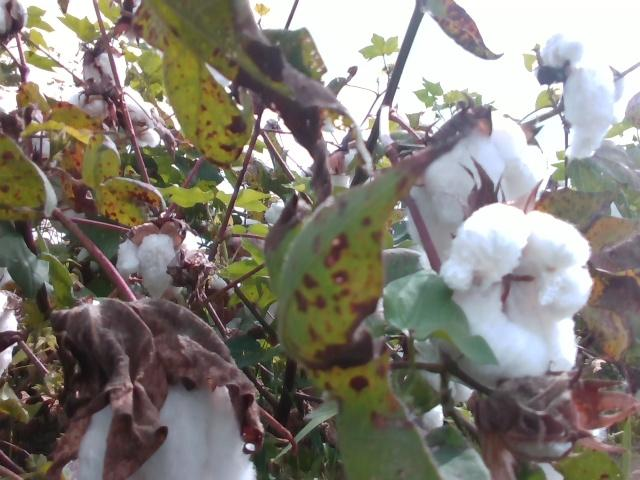cotton_ready: (442, 202, 595, 375), (407, 114, 548, 272), (76, 374, 259, 480), (538, 34, 615, 158), (117, 230, 229, 301), (500, 391, 586, 464), (406, 347, 470, 430), (83, 42, 126, 91), (118, 105, 162, 147), (26, 159, 57, 217), (0, 294, 17, 376), (74, 92, 111, 121), (31, 118, 52, 164), (0, 0, 25, 36)
